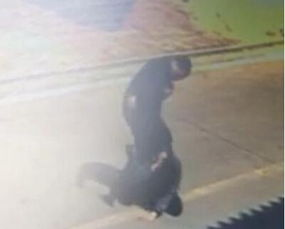fall: (95, 145, 189, 222)
